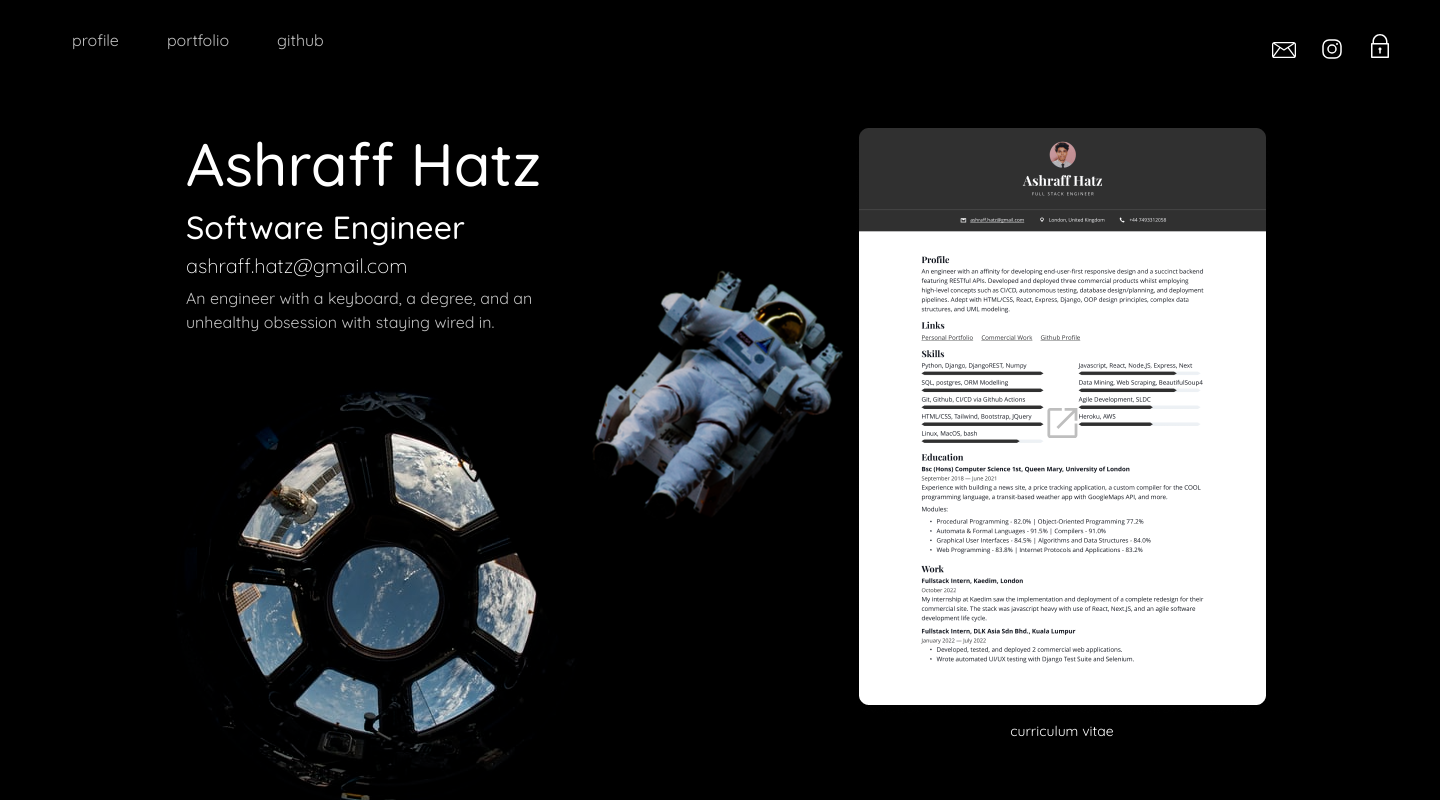
Scenario: Login component test › mounts and renders correctly
// Test Admin access modal
Step 1. Click the list item with id "navlink-icon-admin" → (1380, 48), box 1368,34 -> 1392,62
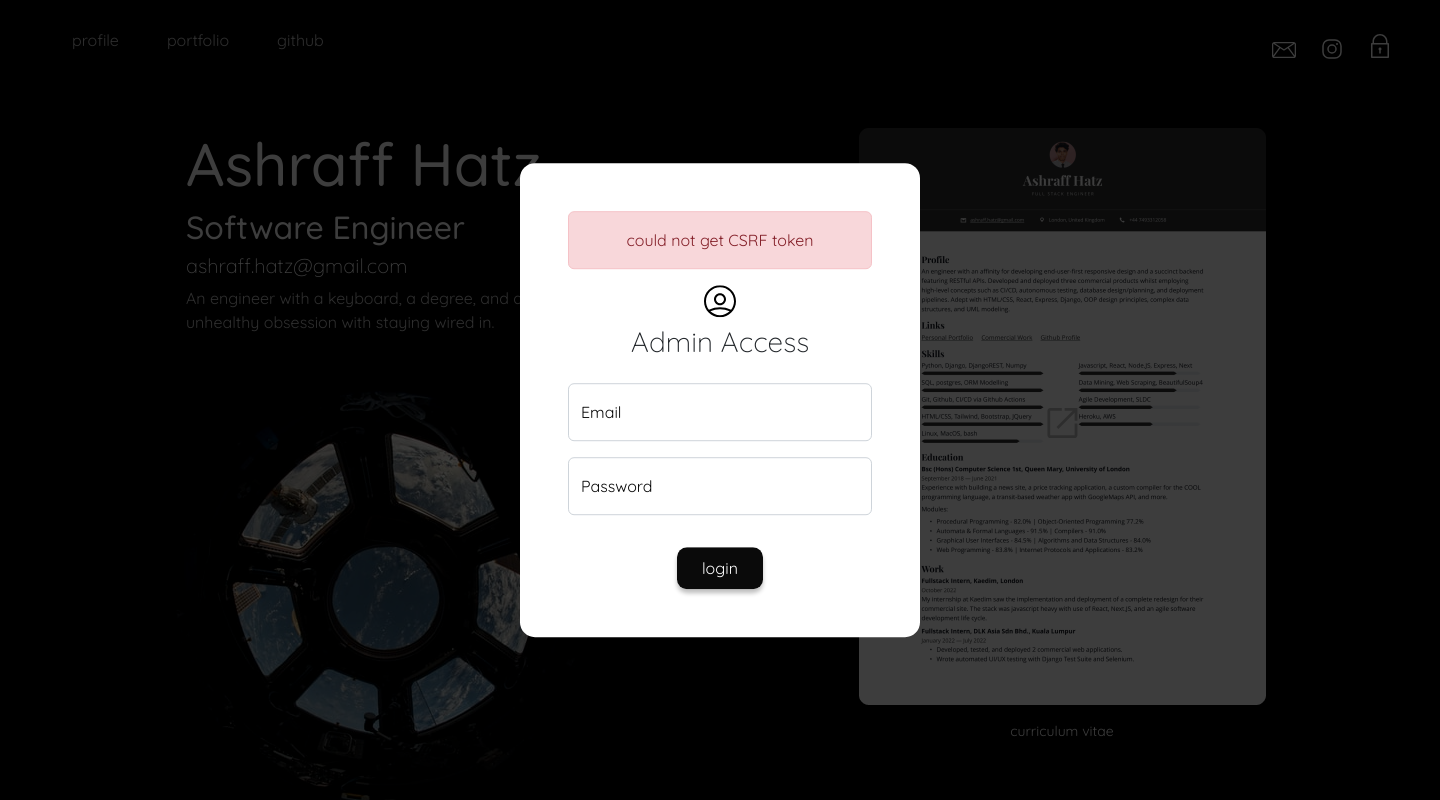
Expected: the element with id "login-container" is shown, 520,163 -> 920,637
